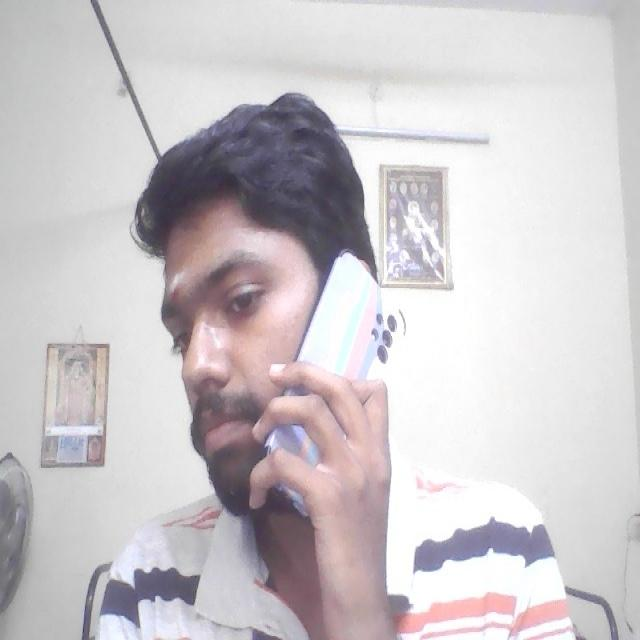Mobile: (286, 247, 409, 473)
